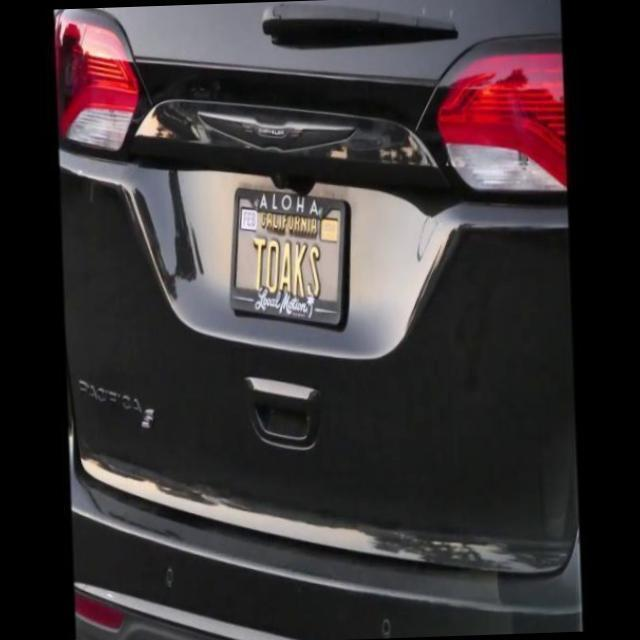license_plate: (226, 182, 352, 334)
